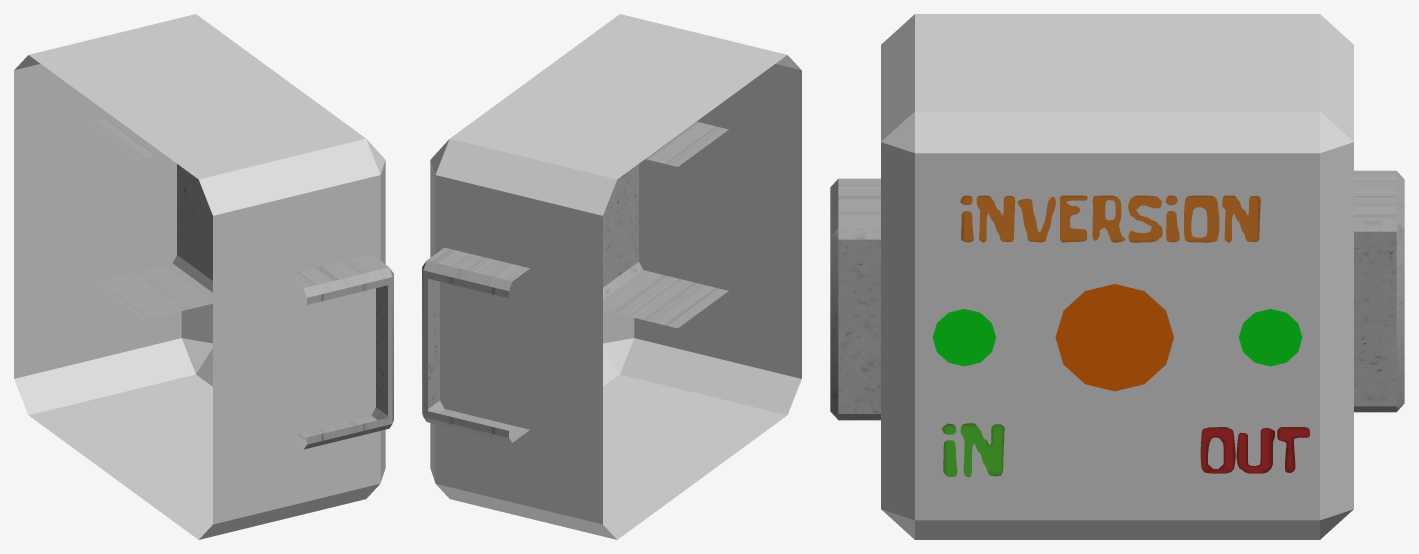
The model's file is EL_Panel_Inverter.fbx.
3 views of the same model, side by side, from view 1: azimuth 30°, elevation 25°; view 2: azimuth 150°, elevation 25°; view 3: azimuth 270°, elevation 25° (orthographic). The views are drawn at different scales.
Visible parts, largest first — view 1: Electrical_Panel_L-Inverter; view 2: Electrical_Panel_L-Inverter; view 3: Electrical_Panel_L-Inverter.
Boxes of the visible parts, <box> form: Electrical_Panel_L-Inverter: <box>14,14,393,539</box>; Electrical_Panel_L-Inverter: <box>422,14,801,539</box>; Electrical_Panel_L-Inverter: <box>830,14,1404,539</box>.
Bounding box in the file's own units: 8.2 × 15 × 18.2.
